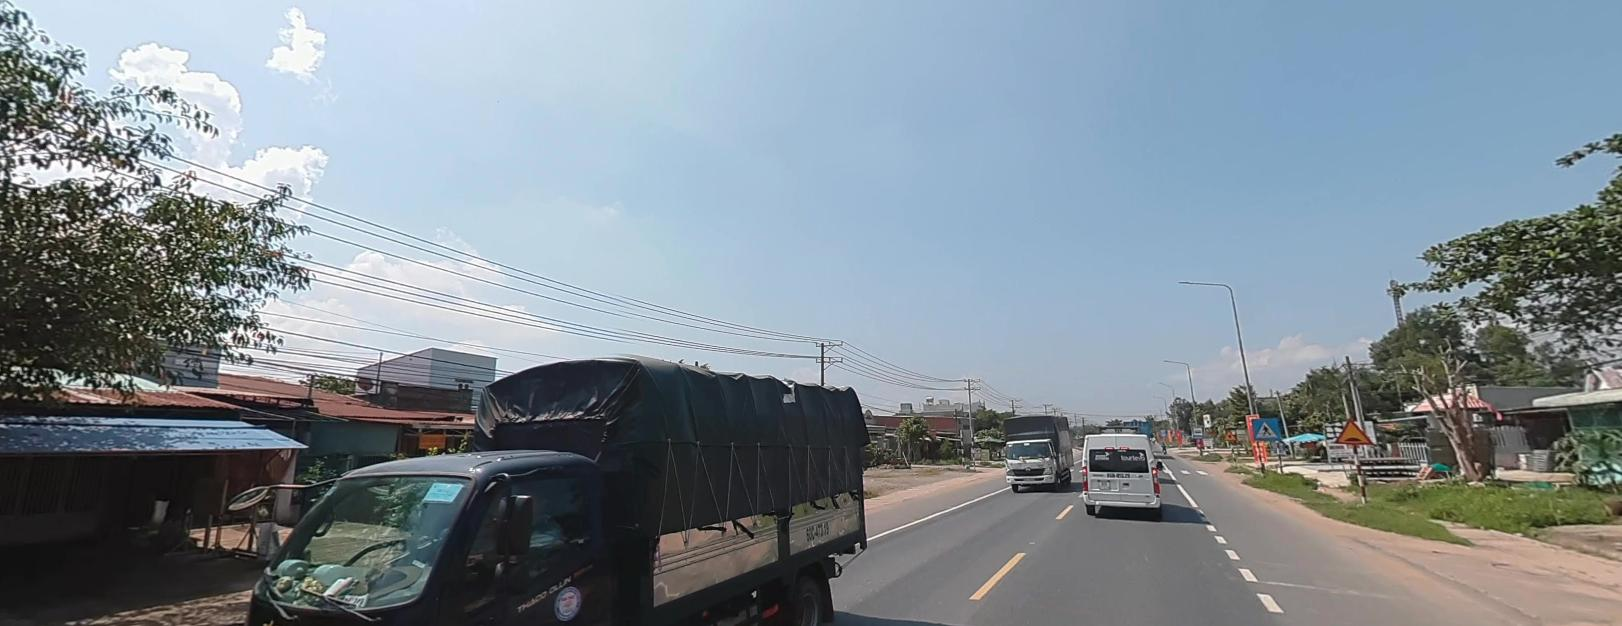Nguy hiem: (1335, 415, 1375, 444), (1222, 428, 1236, 439)
